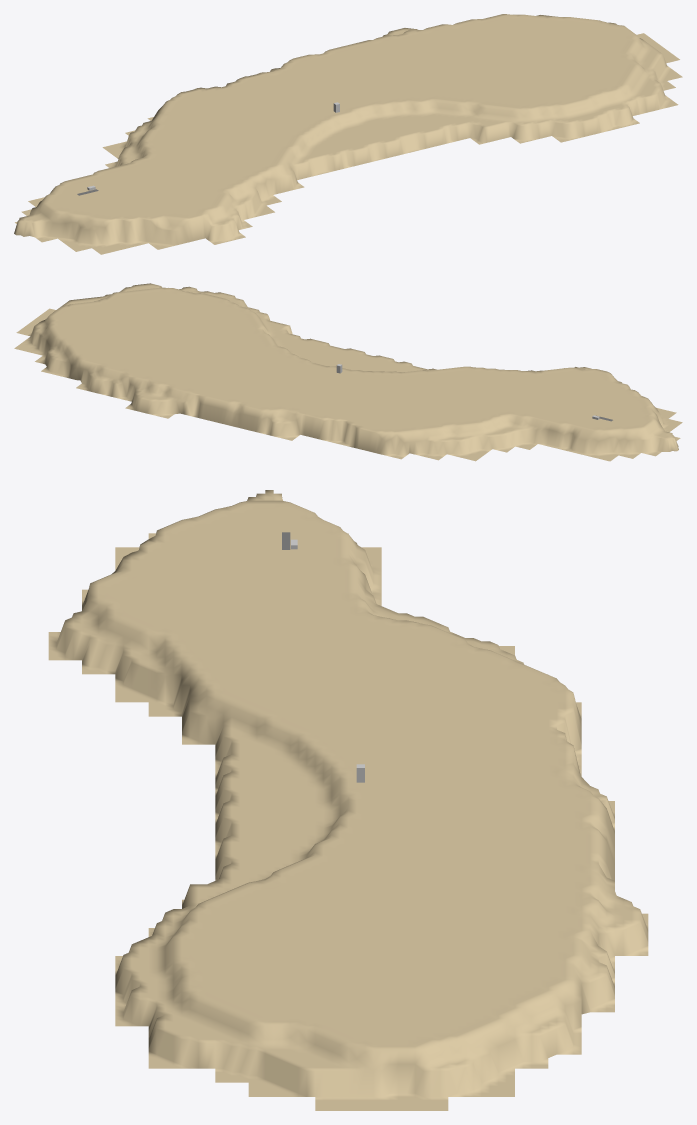
The picture shows the model from 3 angles, top to bottom: view 1: azimuth 30°, elevation 25°; view 2: azimuth 150°, elevation 25°; view 3: azimuth 270°, elevation 25°; orthographic projection. The views are drawn at different scales.
Parts seen in each view (by area): view 1: Island; view 2: Island; view 3: Island.
Part boxes in pixels (x1,y1,x2,y2): Island: (14, 14, 682, 254); Island: (14, 283, 682, 461); Island: (48, 490, 648, 1110).
Size of what is drawn, in the model's own units: 9.29 by 0.365 by 3.91.
